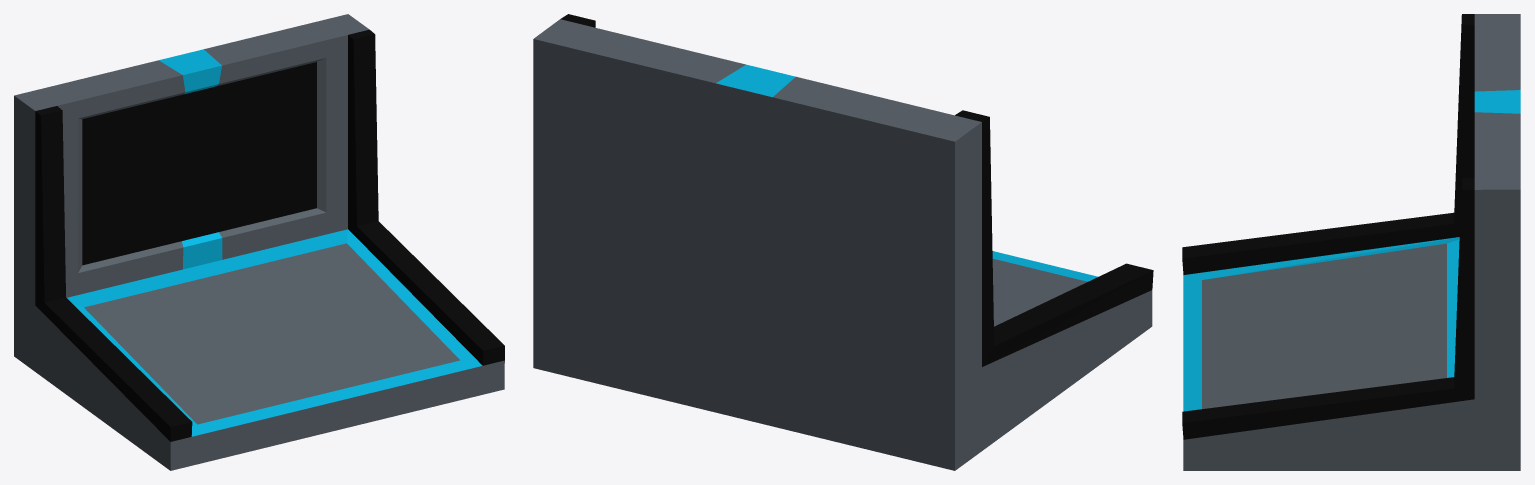
The model's file is ArcadeMachine.fbx.
3 renders of one model, left to right at view 1: azimuth 30°, elevation 25°; view 2: azimuth 150°, elevation 25°; view 3: azimuth 270°, elevation 25°, orthographic. The views are drawn at different scales.
Visible parts, largest first — view 1: Box001; view 2: Box001; view 3: Box001.
Part boxes in pixels (x1,y1,x2,y2): Box001: [14, 14, 504, 470]; Box001: [533, 14, 1153, 470]; Box001: [1182, 14, 1520, 470].
Size of the model in its own units: 18 by 13.41 by 14.63.
